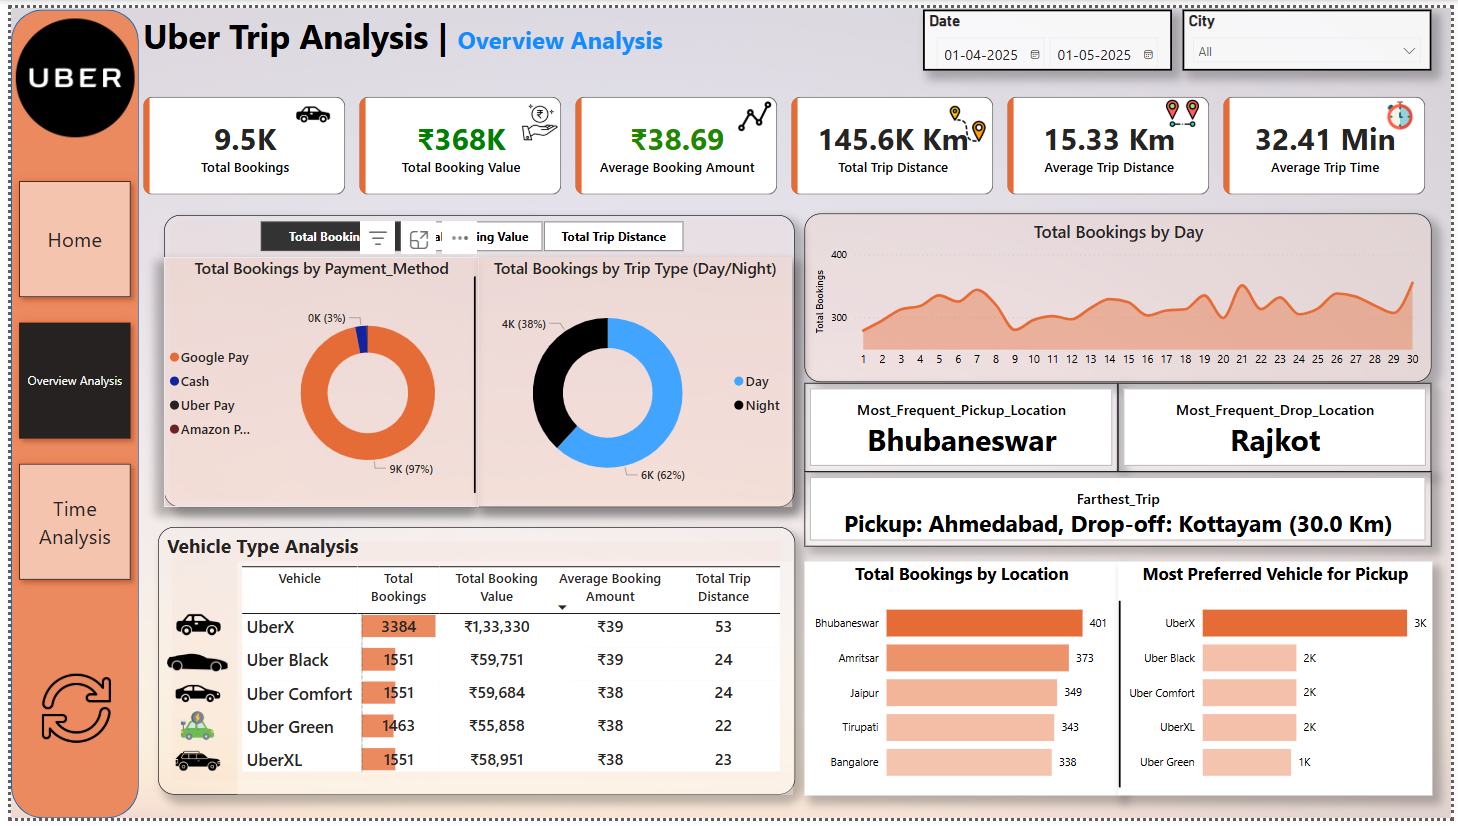

What the dashboard file says about the page in this screenshot:
{"tool":"powerbi","page":{"name":"Overview Analysis","canvas":[1600,900],"ordinal":1},"visuals":[{"type":"shape","box":[0,1.9,142,898.9],"z":0},{"type":"cardVisual","fields":{"Data":["trip_data.Total_Bookings","trip_data.Total_Booking_Amount","trip_data.Average_Booking_Amount","trip_data.Total_Trip_Distance","trip_data.Average_Trip_Distance","trip_data.Average_Trip_Time"]},"box":[142,92.7,1436.6,119.2],"z":1000},{"type":"textbox","box":[142,0,603.8,70],"z":2000},{"type":"image","box":[542,102,92,50],"z":3000},{"type":"image","box":[1011.8,103.1,103.1,50.6],"z":4000},{"type":"image","box":[1253,93.4,97.3,46.7],"z":5000},{"type":"image","box":[1507.6,97.9,69.7,41.5],"z":6000},{"type":"image","box":[784.1,97.3,85.6,46.7],"z":7000},{"type":"shape","box":[169.3,229.6,700.5,324.9],"z":8000},{"type":"image","box":[286,96,98,48],"z":9000},{"type":"slicer","fields":{"Values":["Dynamic Measure.Dynamic Measure"]},"box":[251,229.6,519.5,46.7],"z":10000},{"type":"shape","box":[162.8,577.3,707.9,297.2],"z":10500},{"type":"donutChart","fields":{"Y":["trip_data.Total Bookings"],"Category":["trip_data.Payment_Method"]},"box":[169.3,276.3,350.2,278.2],"z":11000},{"type":"donutChart","fields":{"Y":["trip_data.Total Bookings"],"Category":["trip_data.Trip Type (Day/Night)"]},"box":[518.6,276.3,350.2,278.2],"z":13000},{"type":"pivotTable","fields":{"Rows":["Uber_Car.Vehicle"],"Values":["trip_data.Total Bookings","trip_data.Total Booking Value","trip_data.Average Booking Amount","trip_data.Total Trip Distance m"]},"box":[251.7,615.1,617,259.3],"z":14000},{"type":"image","box":[142.5,658.7,130.6,60.6],"z":15000},{"type":"image","box":[150.1,806.3,115.5,60.6],"z":16000},{"type":"image","box":[128.3,728.7,159,66.2],"z":17000},{"type":"image","box":[149.1,772.2,117.4,51.1],"z":18000},{"type":"image","box":[120.8,689,174.1,77.6],"z":19000},{"type":"areaChart","fields":{"Y":["trip_data.Total Bookings"],"Category":["Date.Date.Variation.Date Hierarchy.Day"]},"box":[882,229,696.5,187.4],"z":20000},{"type":"shape","box":[511,299.1,7.6,240.4],"z":21000},{"type":"cardVisual","fields":{"Data":["trip_data.Most_Frequent_Pickup_Location"]},"box":[882,416.4,348.3,98.4],"z":22000},{"type":"cardVisual","fields":{"Data":["trip_data.Most_Frequent_Drop_Location"]},"box":[1230.3,416.4,348.3,98.4],"z":23000},{"type":"cardVisual","fields":{"Data":["trip_data.Farthest_Trip"]},"box":[882,514.8,696.5,83.3],"z":24000},{"type":"barChart","title":"Total Bookings by Location","fields":{"Category":["location_data.location_name"],"Y":["trip_data.Total Bookings"]},"box":[881.1,614.2,349.6,259.8],"z":25000},{"type":"barChart","title":"Most Preferred Vehicle for Pickup ","fields":{"Category":["Uber_Car.Vehicle"],"Y":["CountNonNull(trip_data.PULocationID)"]},"box":[1230.7,614.2,349.6,259.8],"z":26000},{"type":"shape","box":[1230.3,658.7,3.8,208.2],"z":27000},{"type":"textbox","box":[168.5,577.3,282,43.5],"z":28000},{"type":"slicer","title":"Date","fields":{"Values":["Date.Date"]},"box":[1012.6,1.9,276.3,68.1],"z":29000},{"type":"slicer","title":"City","fields":{"Values":["location_data.location_name"]},"box":[1302.2,1.9,276.3,68.1],"z":30000},{"type":"image","box":[0,2,142,152],"z":31000},{"type":"pageNavigator","box":[0,184,142,462],"z":32000},{"type":"image","title":"Reset","box":[22,732,102,92],"z":33000}]}

Visuals, with their boxes in screenshot pixels (x1, y1, x2, y2), scaled from the page's 1600x900 canvas onto the 1458x826 screenshot:
shape: Rect(0, 2, 129, 825)
cardVisual - trip_data.Total_Bookings x trip_data.Total_Booking_Amount: Rect(129, 85, 1438, 194)
textbox: Rect(129, 0, 680, 64)
image: Rect(494, 94, 578, 140)
image: Rect(922, 95, 1016, 141)
image: Rect(1142, 86, 1230, 129)
image: Rect(1374, 90, 1437, 128)
image: Rect(715, 89, 793, 132)
shape: Rect(154, 211, 793, 509)
image: Rect(261, 88, 350, 132)
slicer - Dynamic Measure.Dynamic Measure: Rect(229, 211, 702, 254)
shape: Rect(148, 530, 793, 803)
donutChart - trip_data.Total Bookings x trip_data.Payment_Method: Rect(154, 254, 473, 509)
donutChart - trip_data.Total Bookings x trip_data.Trip Type (Day/Night): Rect(473, 254, 792, 509)
pivotTable - Uber_Car.Vehicle x trip_data.Total Bookings: Rect(229, 565, 792, 803)
image: Rect(130, 605, 249, 660)
image: Rect(137, 740, 242, 796)
image: Rect(117, 669, 262, 730)
image: Rect(136, 709, 243, 756)
image: Rect(110, 632, 269, 704)
areaChart - trip_data.Total Bookings x Date.Date.Variation.Date Hierarchy.Day: Rect(804, 210, 1438, 382)
shape: Rect(466, 275, 473, 495)
cardVisual - trip_data.Most_Frequent_Pickup_Location: Rect(804, 382, 1121, 472)
cardVisual - trip_data.Most_Frequent_Drop_Location: Rect(1121, 382, 1438, 472)
cardVisual - trip_data.Farthest_Trip: Rect(804, 472, 1438, 549)
"Total Bookings by Location" barChart: Rect(803, 564, 1121, 802)
"Most Preferred Vehicle for Pickup " barChart: Rect(1121, 564, 1440, 802)
shape: Rect(1121, 605, 1125, 796)
textbox: Rect(154, 530, 411, 570)
"Date" slicer: Rect(923, 2, 1175, 64)
"City" slicer: Rect(1187, 2, 1438, 64)
image: Rect(0, 2, 129, 141)
pageNavigator: Rect(0, 169, 129, 593)
"Reset" image: Rect(20, 672, 113, 756)
